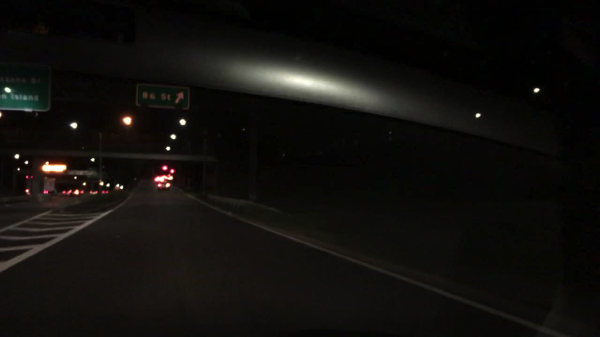car: (157, 182, 169, 191), (73, 189, 86, 196), (62, 188, 73, 196), (153, 176, 165, 183), (89, 188, 99, 196), (100, 188, 110, 195)
traffic light: (162, 163, 169, 173), (169, 169, 175, 175)
traffic sign: (0, 61, 52, 111), (135, 81, 189, 111), (42, 165, 66, 173)
truck: (24, 174, 57, 197)
